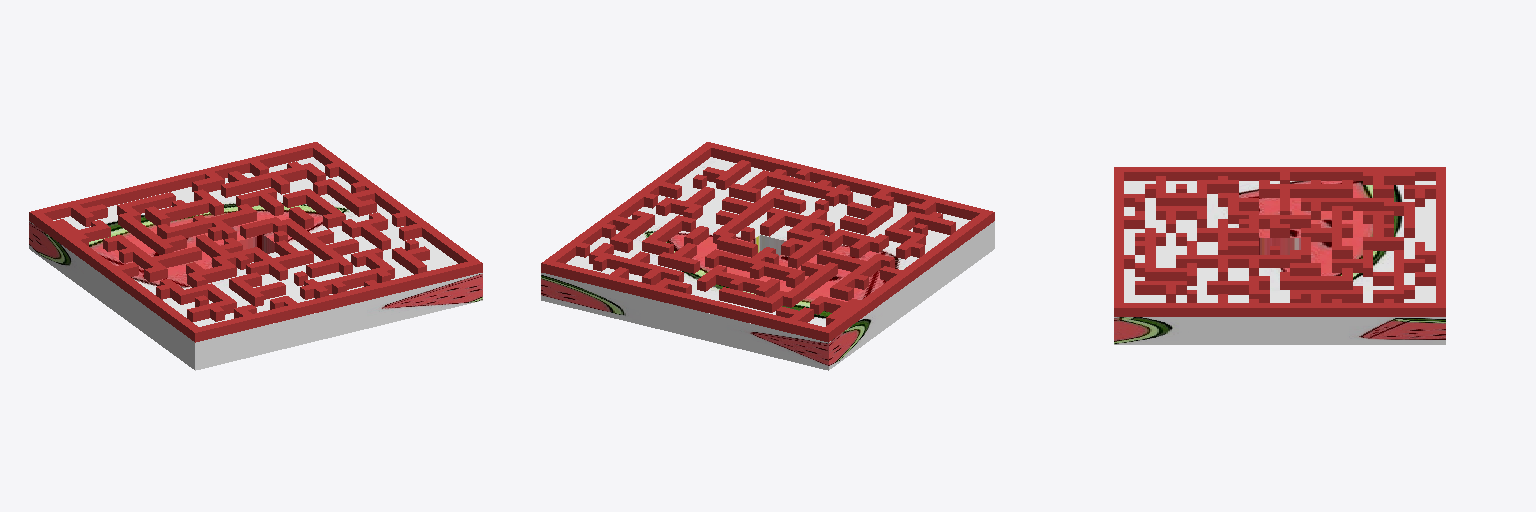
3 renders of one model, left to right at view 1: azimuth 30°, elevation 25°; view 2: azimuth 150°, elevation 25°; view 3: azimuth 270°, elevation 25°, orthographic.
Visible parts, largest first — view 1: Cube.001_Cube.002, Cube_Cube.003; view 2: Cube.001_Cube.002, Cube_Cube.003; view 3: Cube.001_Cube.002, Cube_Cube.003.
Part boxes in pixels (x1,y1,x2,y2): Cube.001_Cube.002: (29, 142, 482, 342); Cube_Cube.003: (29, 157, 482, 370); Cube.001_Cube.002: (541, 142, 994, 342); Cube_Cube.003: (541, 157, 994, 370); Cube.001_Cube.002: (1114, 167, 1445, 316); Cube_Cube.003: (1114, 181, 1445, 344).
Bounding box in the file's own units: 16 × 2.02 × 16.
2 materials, 1 textured.